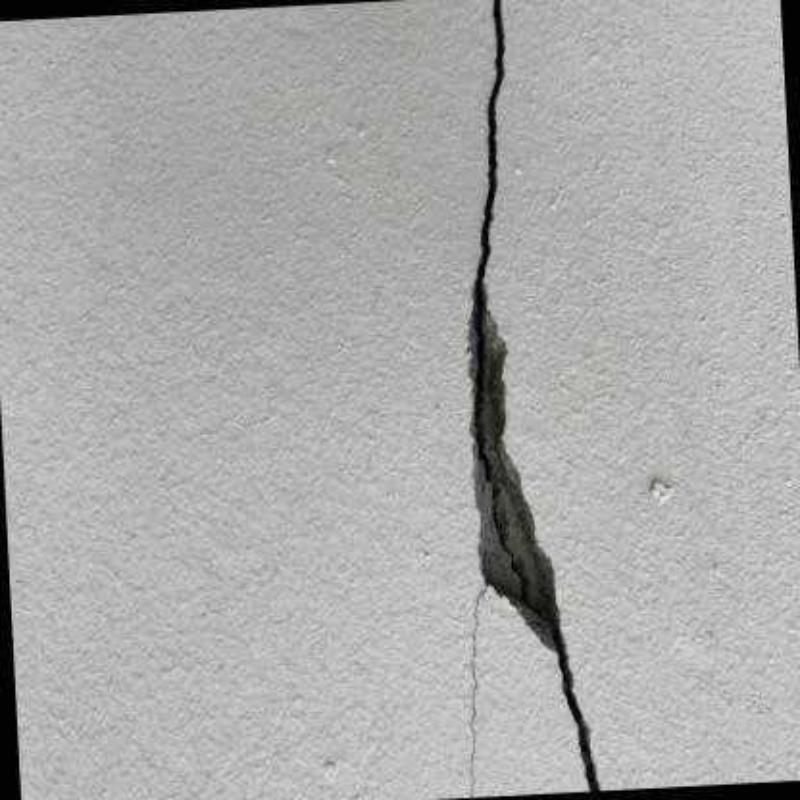crack: (467, 0, 602, 797)
